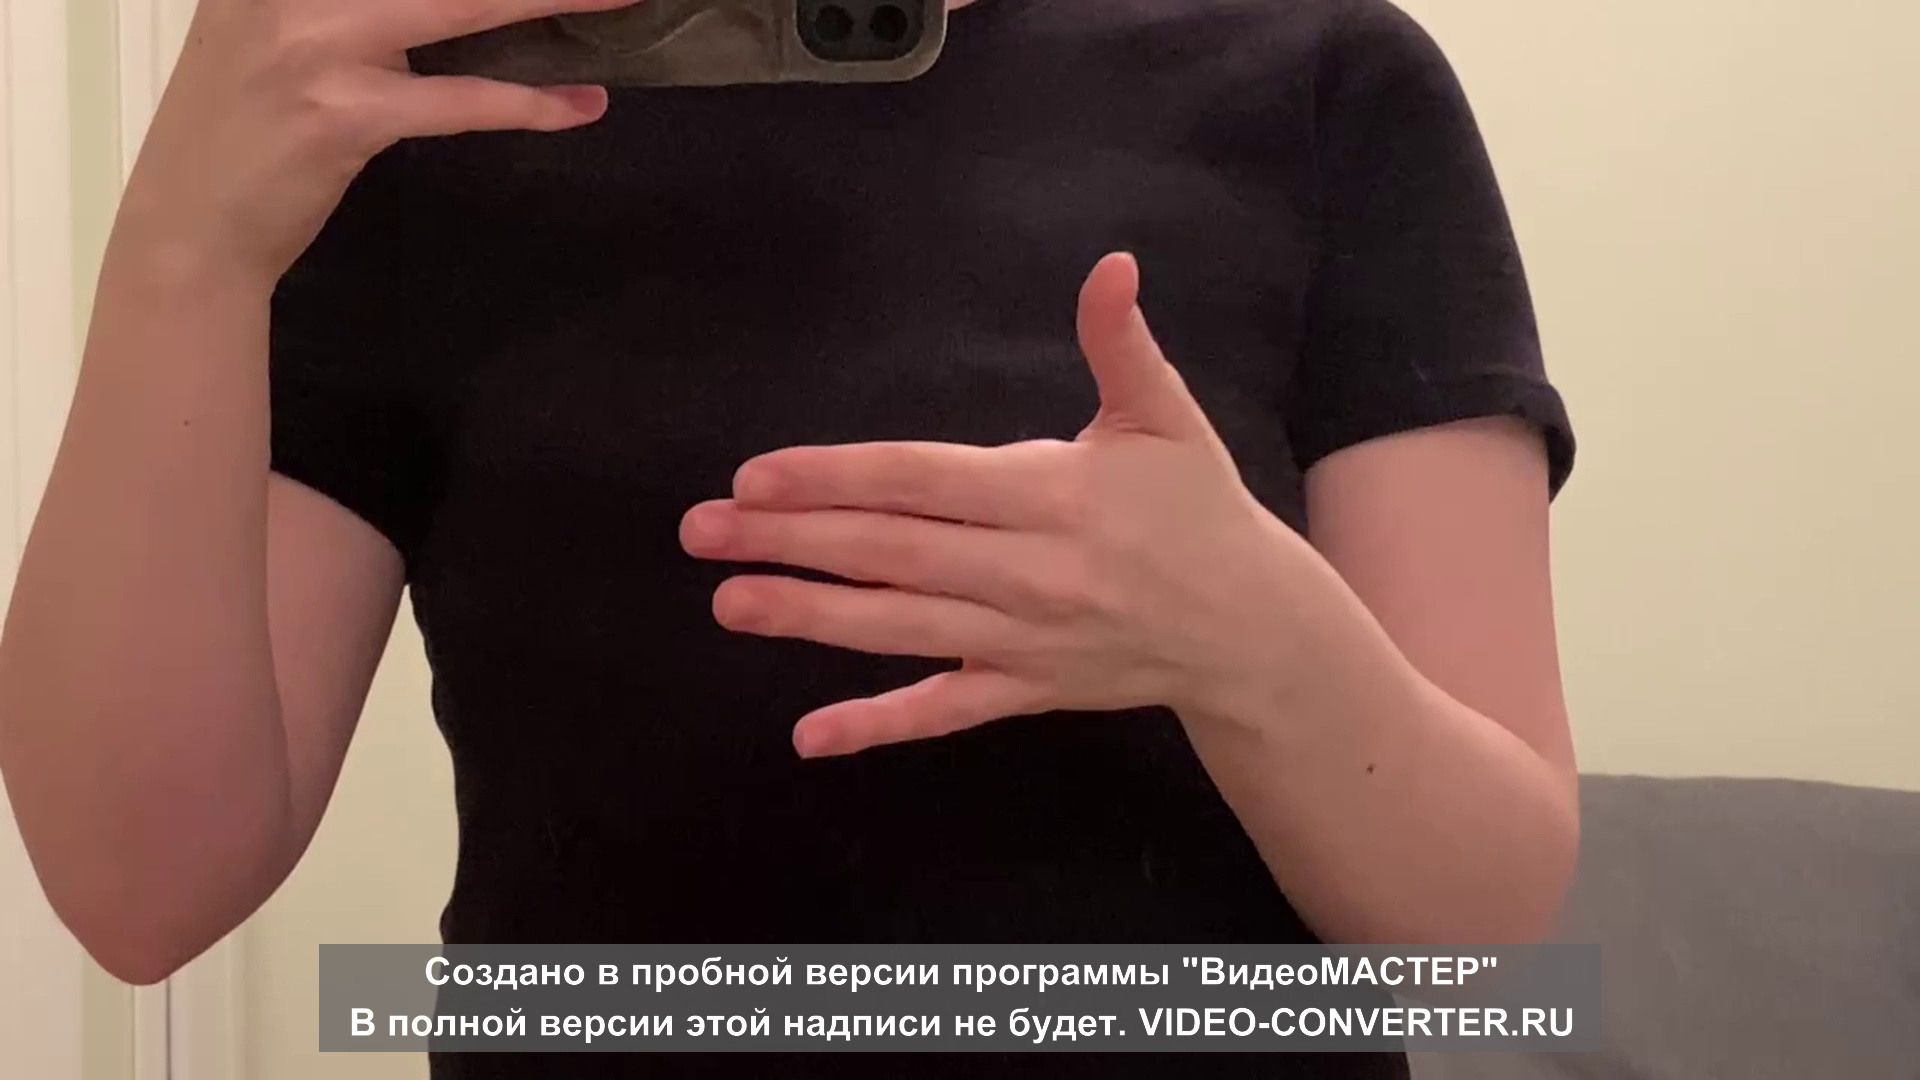Кисть: (676, 251, 1262, 761)
